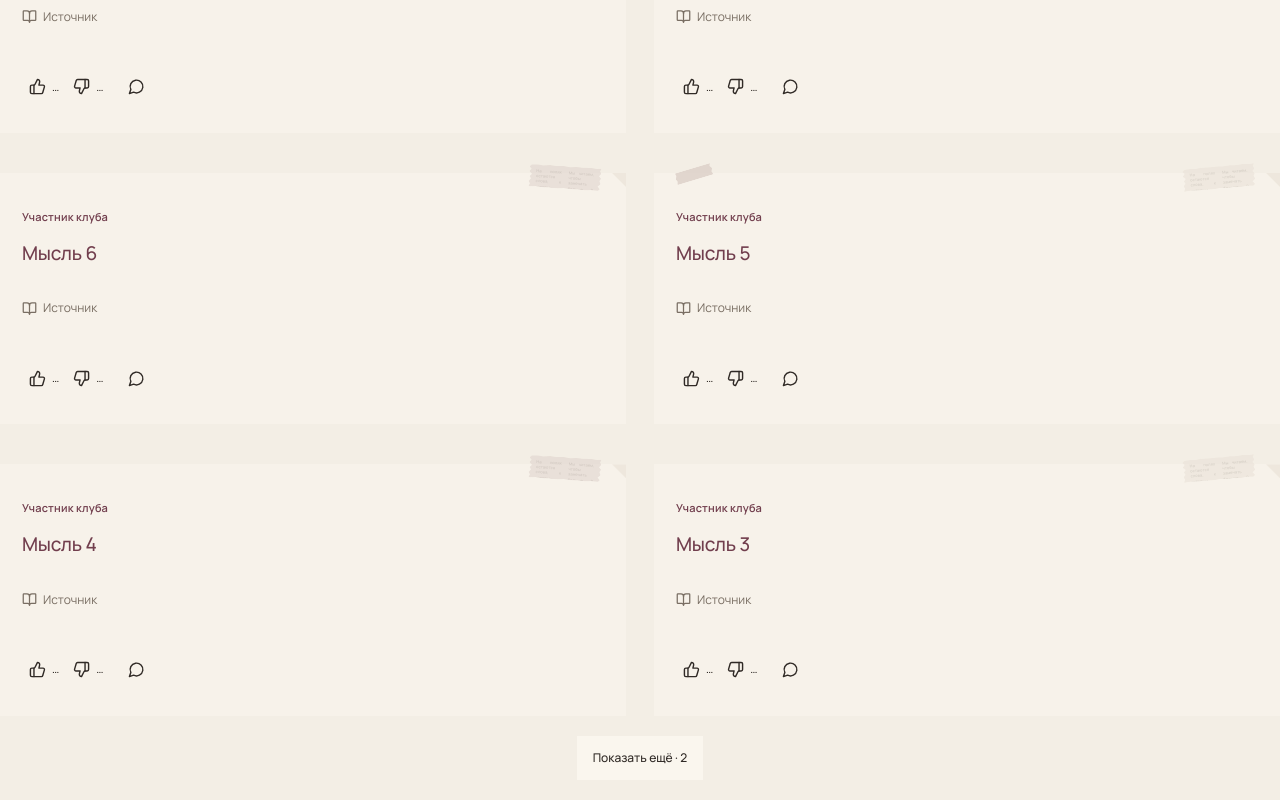
Test case: популярные цитаты сортируются по лайкам и раскрываются частями без потери фильтра книги
(page scrolled)
Click the button "Показать ещё · 2" at (640, 758), box x1=577 y1=736 x2=703 y2=780
(page scrolled)
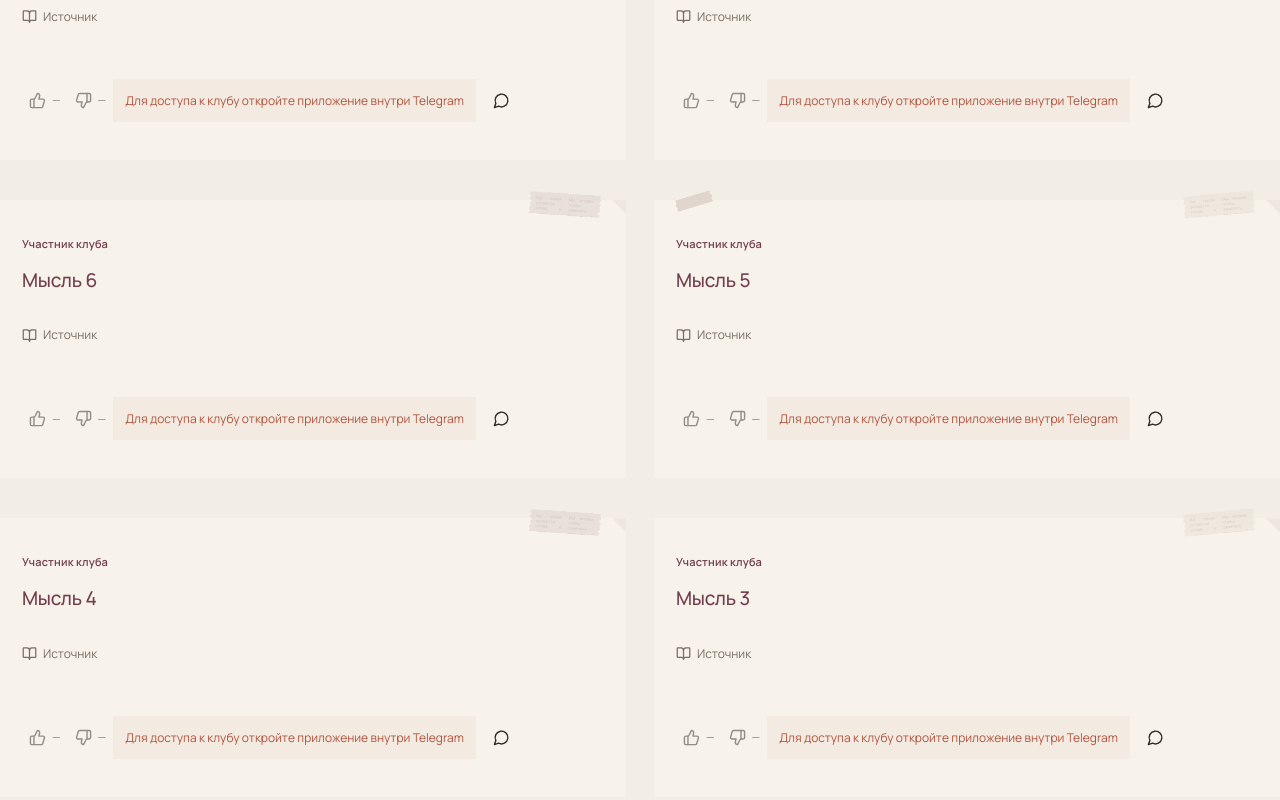
Now the button "Показать ещё" is gone
